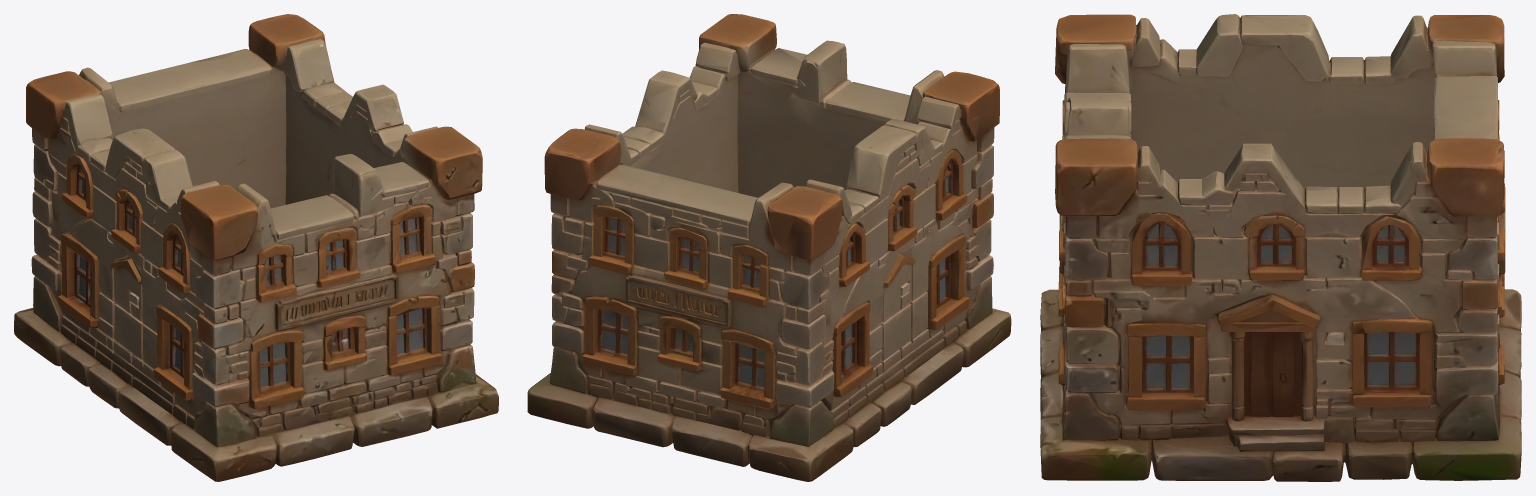
3 renders of one model, left to right at view 1: azimuth 30°, elevation 25°; view 2: azimuth 150°, elevation 25°; view 3: azimuth 270°, elevation 25°, orthographic. The views are drawn at different scales.
Parts seen in each view (by area): view 1: model; view 2: model; view 3: model.
Boxes of the visible parts, x1,y1,x2,y2 form: model: [14, 14, 498, 481]; model: [527, 14, 1011, 481]; model: [1040, 14, 1521, 481].
Bounding box in the file's own units: 1.56 × 1.36 × 1.9.
Materials: 1 (1 with a texture image).
